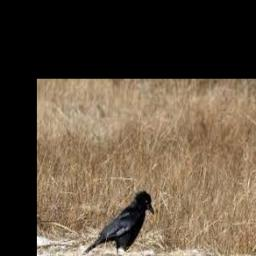Crow: (83, 189, 154, 256)
